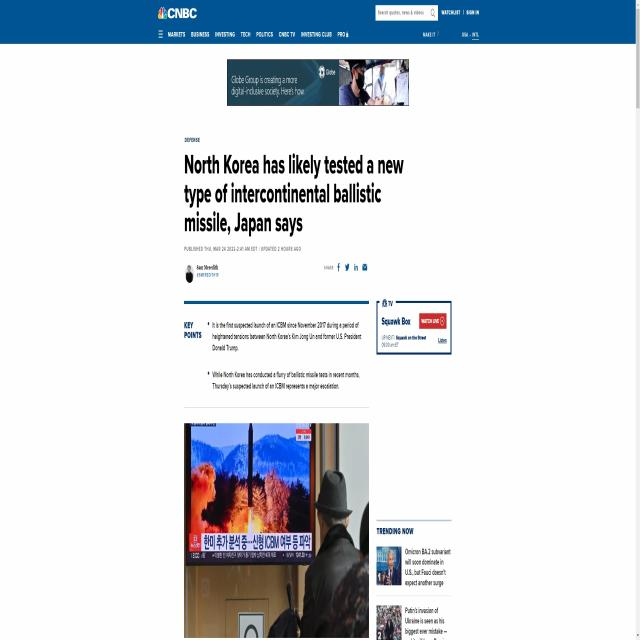menu-bar: (441, 1, 479, 22)
search: (374, 2, 439, 22)
tab-bar: (156, 26, 353, 42)
